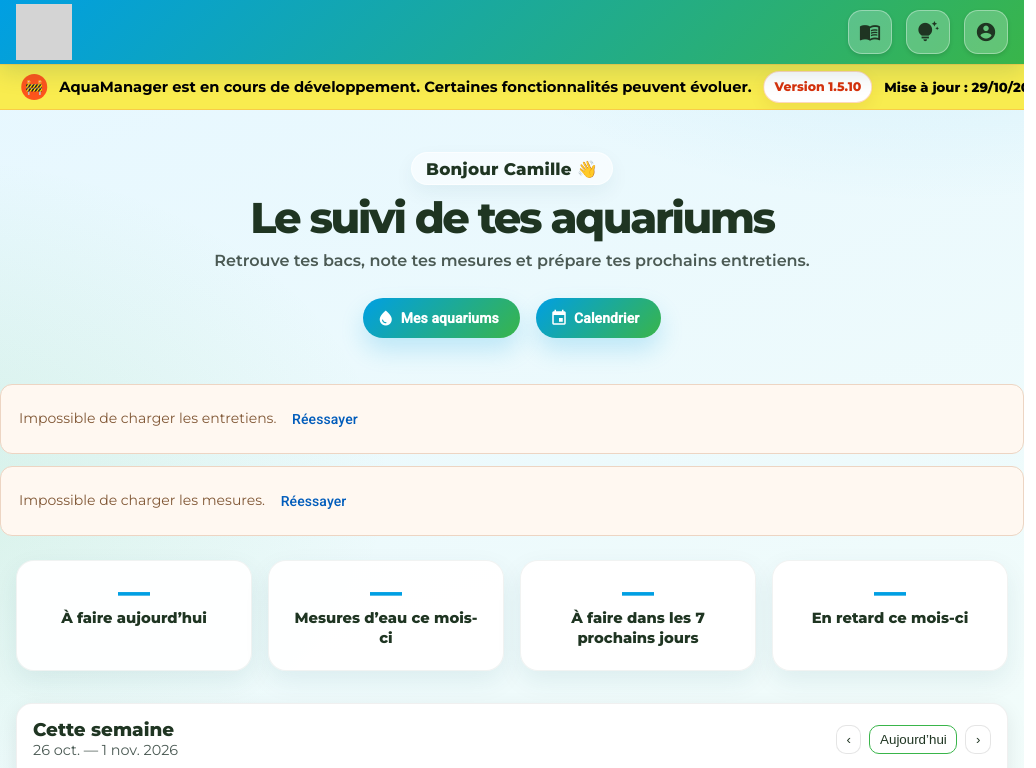
Test: Parcours utilisateur : démarrage et entretien › distingue les erreurs des états vides et réessaie
Expected: the text "Impossible de charger les entretiens" is shown, [19,408,280,426]
Expected: the 1st text with class "kpi-value" reads "—", [39,582,230,602]
Click the button "Réessayer" at (325, 419), box [280,399,370,439]
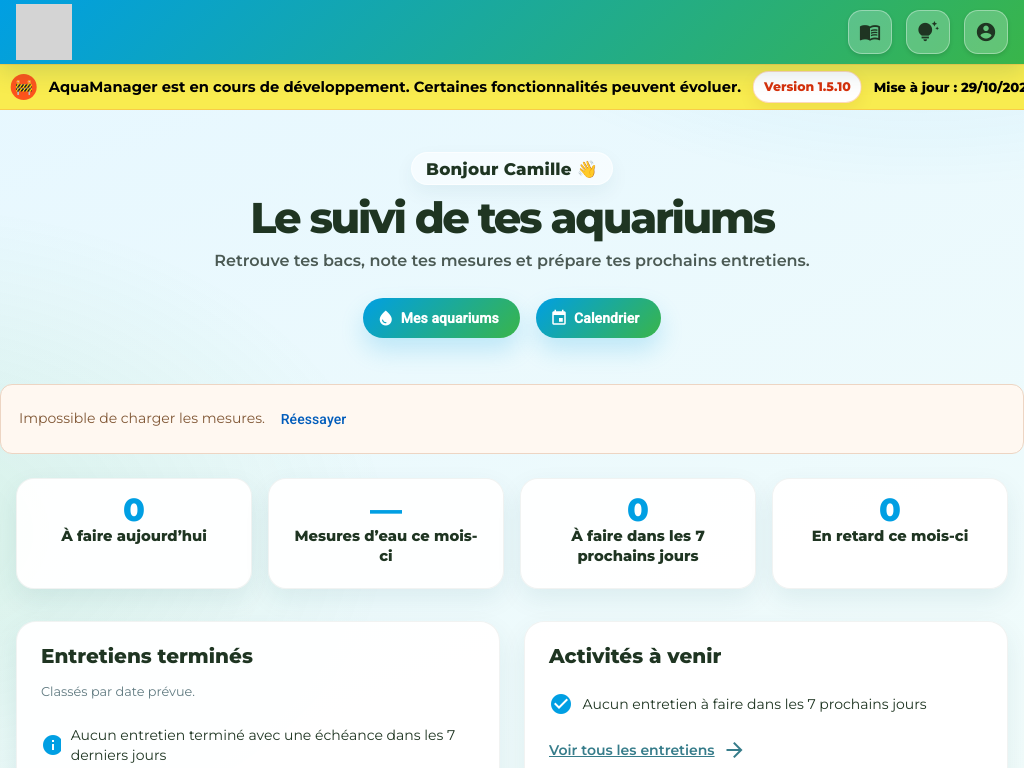
Expected: the element with class "activity-grid" is shown, [0,621,1024,767]
Expected: the list item "Aucun entretien à faire" is shown, [583,695,927,713]
